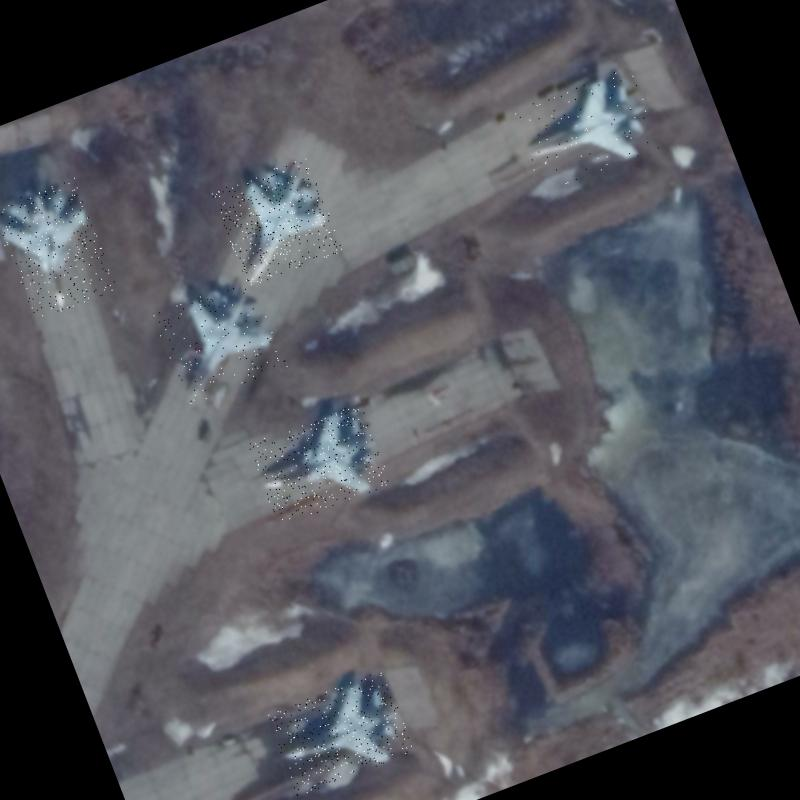A1: (511, 64, 664, 192), (266, 669, 414, 796), (150, 274, 288, 406), (210, 155, 344, 287)
A19: (246, 401, 392, 527), (0, 176, 117, 321)
